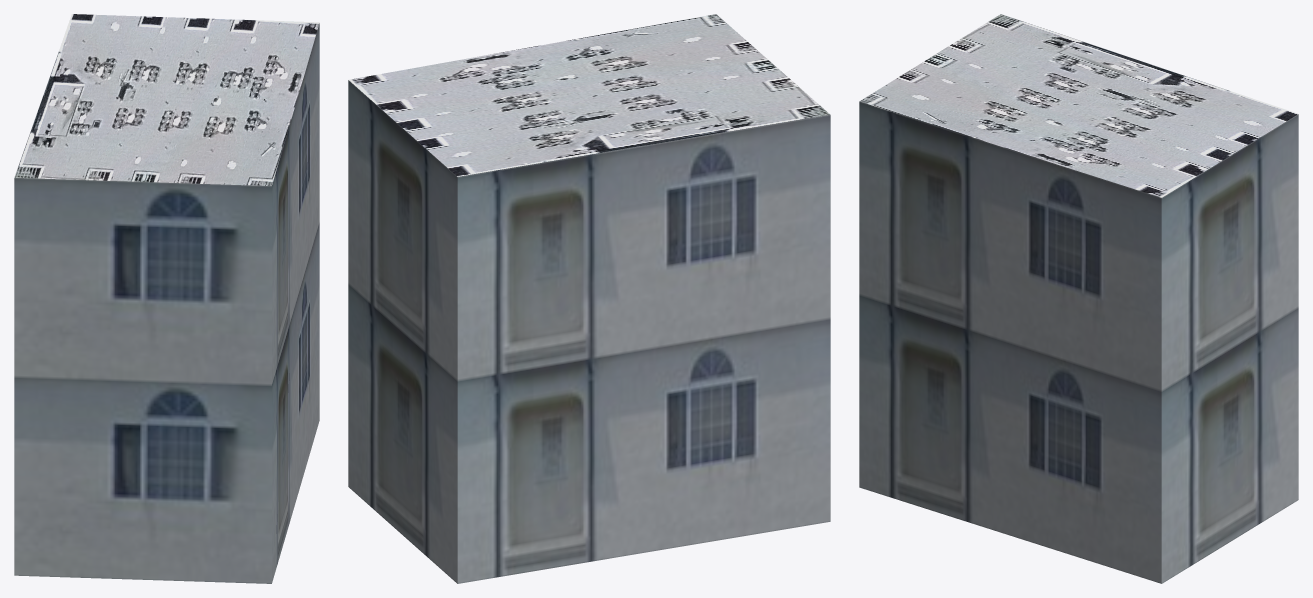
File: ResTex__5120.fbx
The picture shows the model from 3 angles, left to right: view 1: azimuth 30°, elevation 25°; view 2: azimuth 150°, elevation 25°; view 3: azimuth 270°, elevation 25°; orthographic projection. The views are drawn at different scales.
Visible parts, largest first — view 1: CityEngineMaterial_17_m, CityEngineMaterial_m; view 2: CityEngineMaterial_17_m, CityEngineMaterial_m; view 3: CityEngineMaterial_17_m, CityEngineMaterial_m.
Boxes of the visible parts, x1=… form: CityEngineMaterial_17_m: x1=14, y1=23, x2=319, y2=583; CityEngineMaterial_m: x1=14, y1=14, x2=319, y2=185; CityEngineMaterial_17_m: x1=348, y1=80, x2=830, y2=583; CityEngineMaterial_m: x1=349, y1=14, x2=829, y2=176; CityEngineMaterial_17_m: x1=859, y1=101, x2=1298, y2=583; CityEngineMaterial_m: x1=859, y1=14, x2=1297, y2=197.
Size of the model in its own units: 6.13 by 6 by 6.19.
2 materials, 2 textured.
